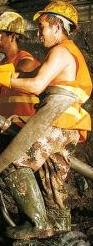boots: (3, 172, 55, 241)
gloves: (0, 63, 19, 89)
hard-hat: (0, 11, 26, 35)
vest: (0, 49, 36, 122)
